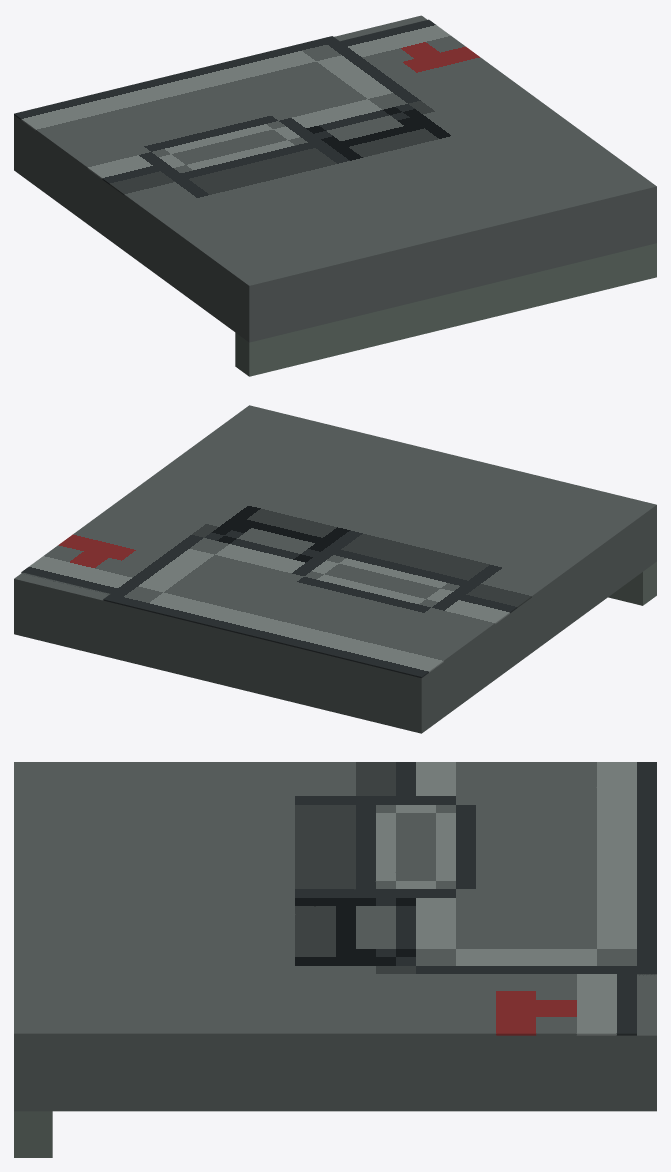
The model's file is CMU3DInteriorVehicleAPCWindshieldTop.glb.
3 renders of one model, top to bottom at view 1: azimuth 30°, elevation 25°; view 2: azimuth 150°, elevation 25°; view 3: azimuth 270°, elevation 25°, orthographic. The views are drawn at different scales.
Parts seen in each view (by area): view 1: overhead armor source finish, overhead armor, inner roof rib; view 2: overhead armor source finish, overhead armor, inner roof rib; view 3: overhead armor source finish, overhead armor, inner roof rib.
Boxes of the visible parts, left/top/right/bottom form: overhead armor source finish: left=14, top=19, right=656, bottom=286; overhead armor: left=14, top=15, right=656, bottom=342; inner roof rib: left=235, top=243, right=656, bottom=376; overhead armor source finish: left=21, top=405, right=656, bottom=677; overhead armor: left=14, top=506, right=656, bottom=733; inner roof rib: left=608, top=561, right=656, bottom=605; overhead armor source finish: left=14, top=762, right=656, bottom=1035; overhead armor: left=14, top=974, right=656, bottom=1111; inner roof rib: left=14, top=1111, right=52, bottom=1157.
Bounding box in the file's own units: 1 × 0.213 × 1.
3 materials, 1 textured.
